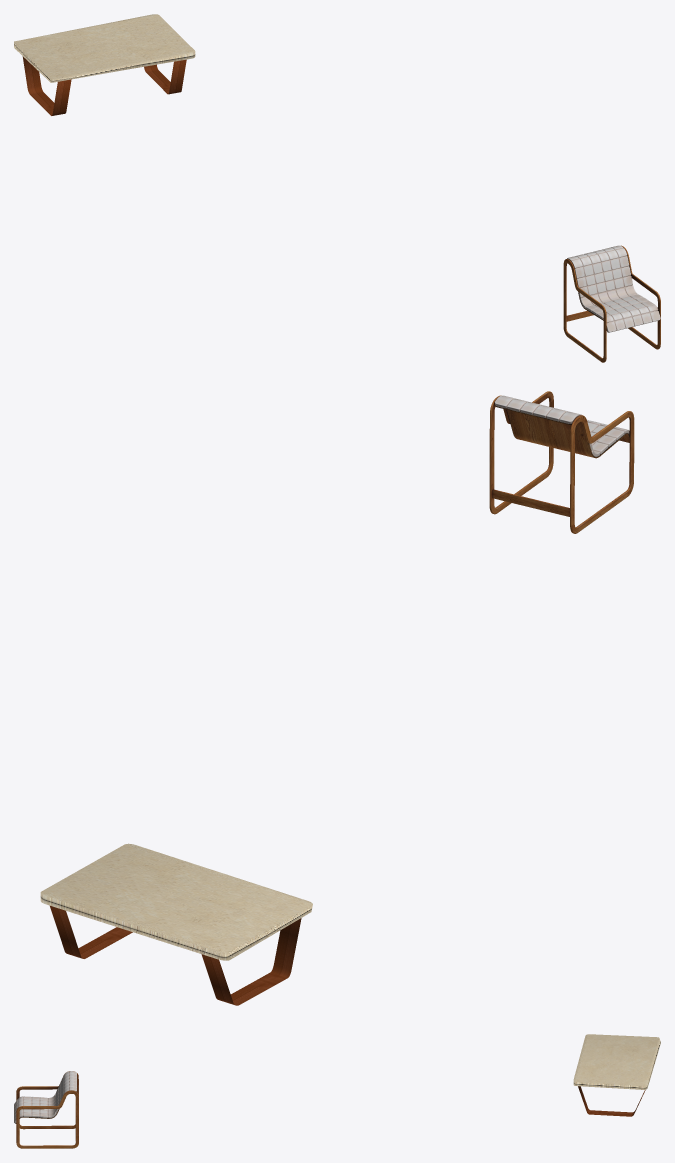
File: modified.glb
3 views of the same model, one above another, from view 1: azimuth 30°, elevation 25°; view 2: azimuth 150°, elevation 25°; view 3: azimuth 270°, elevation 25° (orthographic). The views are drawn at different scales.
Parts seen in each view (by area): view 1: Plane.002, Object001_Material #5_0_4, 01_Wood_Material #3_0_0, Plane.001, Plane; view 2: Plane.002, 01_Wood_Material #3_0_0, Plane.001, 02_Base_Material #2_0_2, Object001_Material #5_0_4, Plane; view 3: Plane.002, 01_Wood_Material #3_0_0, Object001_Material #5_0_4, Plane.
Boxes of the visible parts, box(x1,y1,x2,y2) form: Plane.002: box(14, 14, 195, 82); Object001_Material #5_0_4: box(567, 245, 660, 332); 01_Wood_Material #3_0_0: box(563, 245, 660, 362); Plane.001: box(22, 56, 71, 115); Plane: box(144, 59, 186, 94); Plane.002: box(40, 843, 312, 960); 01_Wood_Material #3_0_0: box(489, 391, 634, 533); Plane.001: box(201, 918, 301, 1005); 02_Base_Material #2_0_2: box(495, 405, 629, 458); Object001_Material #5_0_4: box(495, 395, 629, 456); Plane: box(50, 906, 132, 958); Plane.002: box(573, 1034, 660, 1089); 01_Wood_Material #3_0_0: box(16, 1071, 78, 1148); Object001_Material #5_0_4: box(14, 1071, 76, 1123); Plane: box(578, 1086, 645, 1116).
Size of the model in its own units: 13.4 by 4.49 by 45.16.
Materials: 5 (5 with a texture image).
